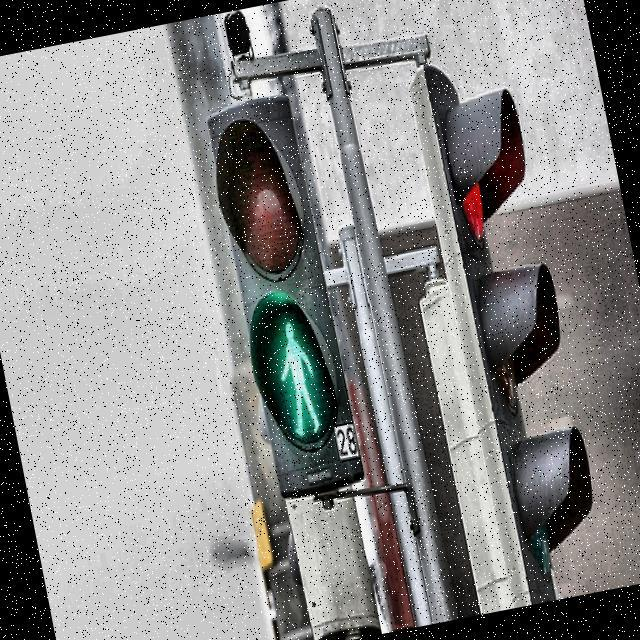green_light: (269, 316, 328, 442)
